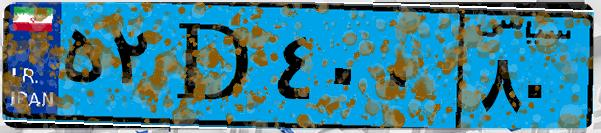0: (385, 28, 445, 110), (330, 28, 385, 110), (525, 38, 570, 115)
2: (110, 28, 158, 98)
4: (270, 28, 330, 110)
5: (57, 26, 110, 100)
8: (475, 38, 525, 113)
D: (158, 12, 270, 120)
